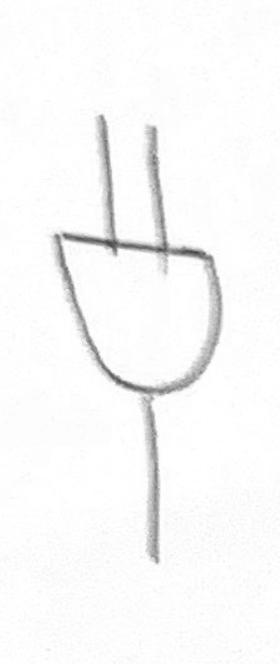AND: (25, 211, 237, 416)
